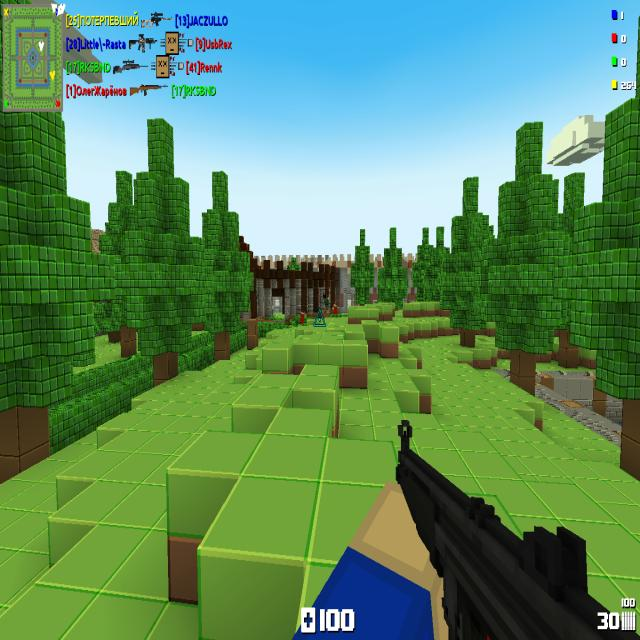enemy: (300, 308, 307, 324), (332, 303, 337, 314)
